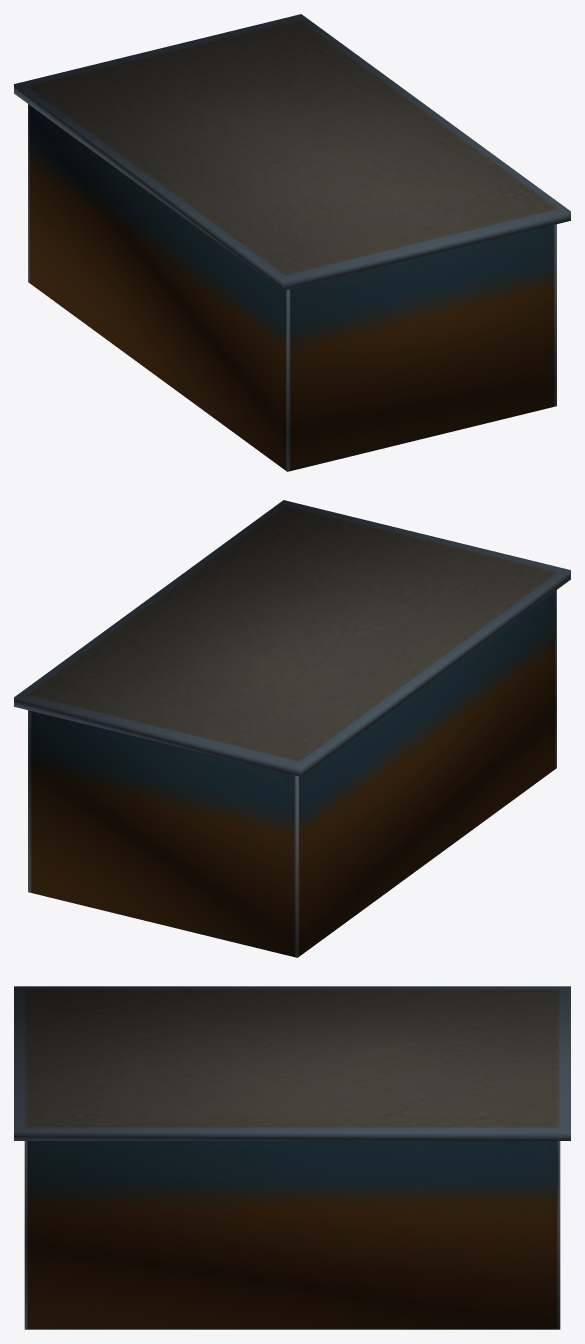
The model's file is station-counter-tripo-original.glb.
3 renders of one model, top to bottom at view 1: azimuth 30°, elevation 25°; view 2: azimuth 150°, elevation 25°; view 3: azimuth 270°, elevation 25°, orthographic. The views are drawn at different scales.
Parts seen in each view (by area): view 1: Authored_surface_011; view 2: Authored_surface_011; view 3: Authored_surface_011.
Boxes of the visible parts, box(x1,y1,x2,y2) form: Authored_surface_011: box(14, 14, 570, 471); Authored_surface_011: box(14, 500, 570, 957); Authored_surface_011: box(14, 986, 570, 1329).
Bounding box in the file's own units: 0.6154 × 0.4019 × 1.
1 material, 1 textured.
